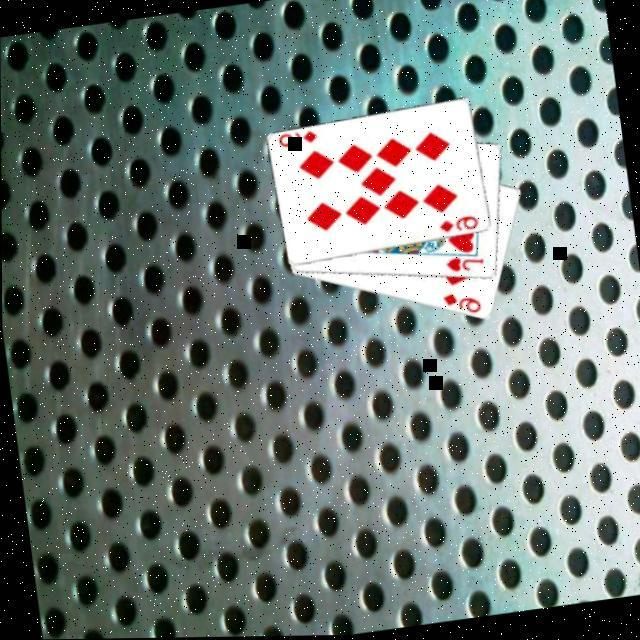9D: (436, 286, 482, 321), (433, 212, 479, 236), (272, 128, 318, 152)
JH: (440, 252, 484, 278)
